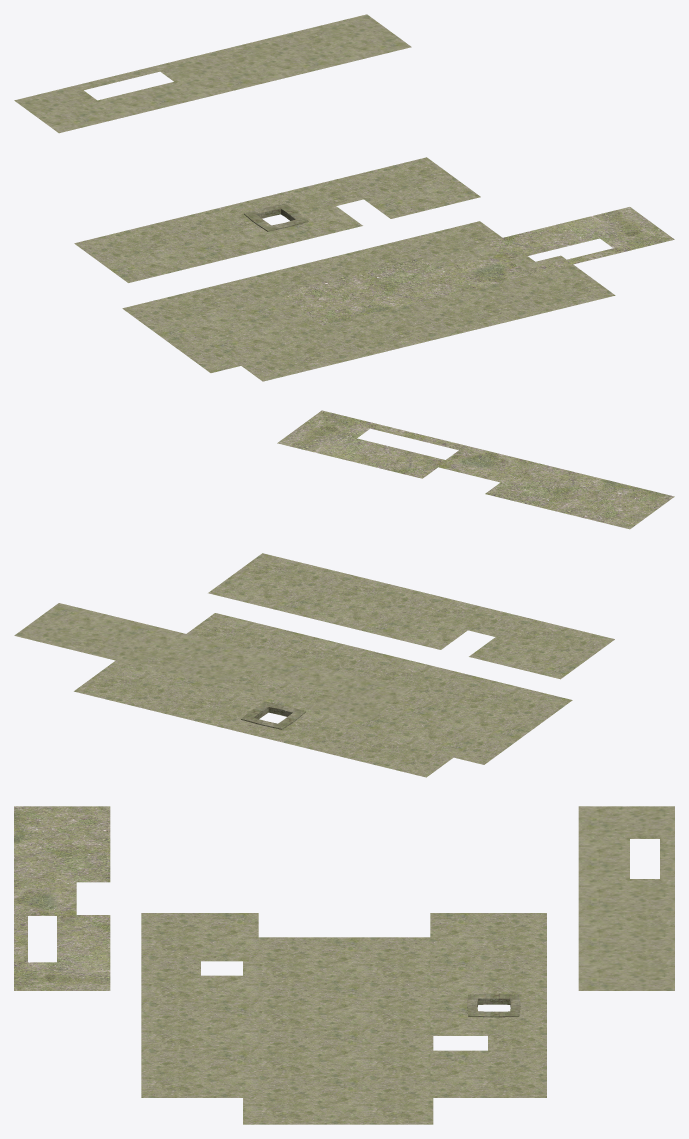
File: SM_Chateaux_05_00.fbx
3 views of the same model, one above another, from view 1: azimuth 30°, elevation 25°; view 2: azimuth 150°, elevation 25°; view 3: azimuth 270°, elevation 25° (orthographic). The views are drawn at different scales.
Visible parts, largest first — view 1: SM_Chateaux_05_00; view 2: SM_Chateaux_05_00; view 3: SM_Chateaux_05_00.
Boxes of the visible parts, box(x1,y1,x2,y2) form: SM_Chateaux_05_00: box(14, 14, 674, 381); SM_Chateaux_05_00: box(14, 410, 674, 777); SM_Chateaux_05_00: box(14, 806, 674, 1124).
Bounding box in the file's own units: 3313 × 1101 × 4938.
